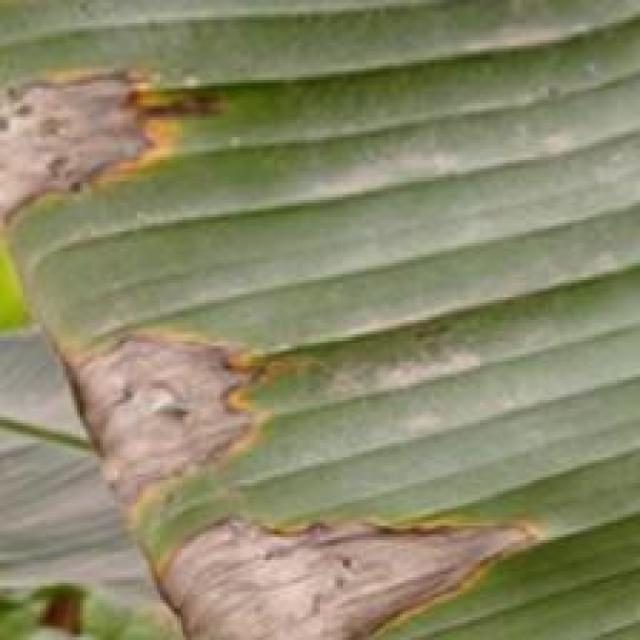Bacterial_spot: (154, 488, 539, 640), (56, 322, 281, 497), (0, 55, 214, 222)
